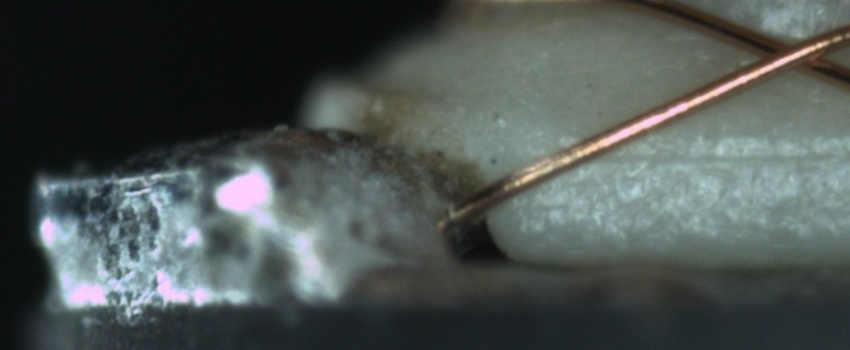CL: (736, 21, 841, 81)
DL: (550, 126, 850, 187)
